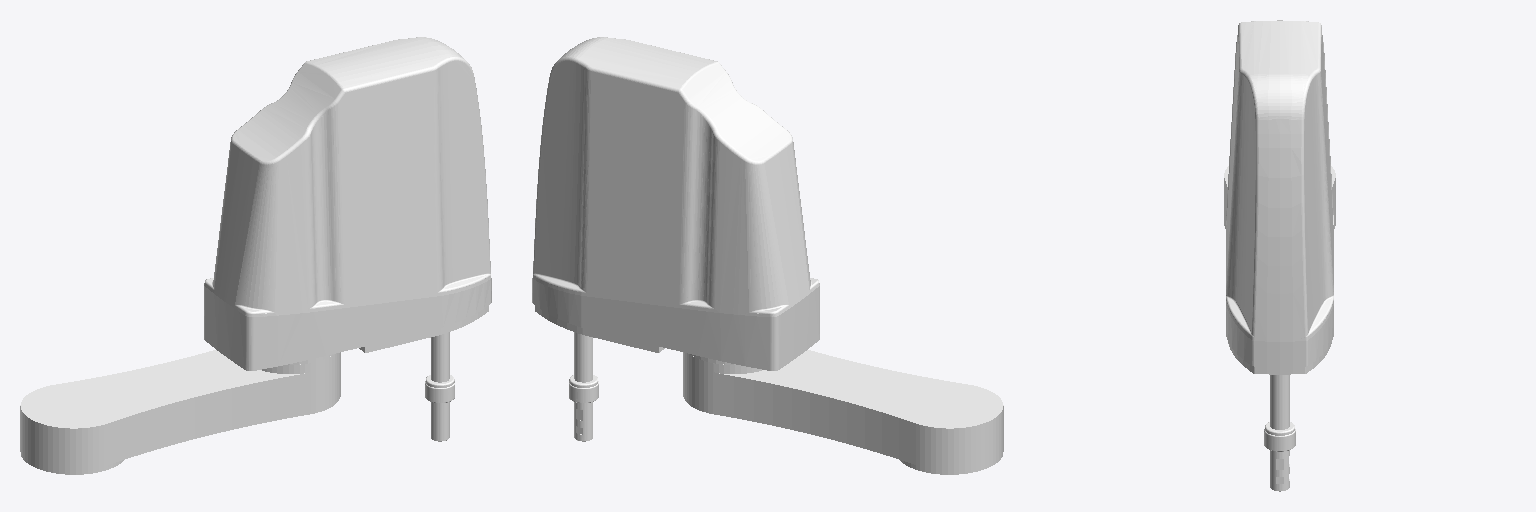
robot.urdf — rh6frh5520:
<?xml version="1.0" ?>
<robot name="rh6frh5520">
  <material name="white">
    <color rgba="1.0 1.0 1.0 1.0"/>
  </material>
  <link name="world"/>
  <link name="rh6frh5520_base">
    <visual>
      <material name="white"/>
      <origin rpy="0 0 0" xyz="0 0 0"/>
      <geometry>
        <mesh filename="package://melfa_description/meshes/rh6frh5520/base.STL"/>
      </geometry>
    </visual>
    <collision>
      <origin rpy="0 0 0" xyz="0 0 0"/>
      <geometry>
        <mesh filename="package://melfa_description/meshes/rh6frh5520/base.STL"/>
      </geometry>
    </collision>
  </link>
  <link name="rh6frh5520_no1arm">
    <visual>
      <material name="white"/>
      <origin rpy="0 0 0" xyz="0 0 0"/>
      <geometry>
        <mesh filename="package://melfa_description/meshes/rh6frh5520/no1arm.STL"/>
      </geometry>
    </visual>
    <collision>
      <origin rpy="0 0 0" xyz="0 0 0"/>
      <geometry>
        <mesh filename="package://melfa_description/meshes/rh6frh5520/no1arm.STL"/>
      </geometry>
    </collision>
  </link>
  <link name="rh6frh5520_no2arm">
    <visual>
      <material name="white"/>
      <origin rpy="0 0 0" xyz="0 0 0"/>
      <geometry>
        <mesh filename="package://melfa_description/meshes/rh6frh5520/no2arm.STL"/>
      </geometry>
    </visual>
    <collision>
      <origin rpy="0 0 0" xyz="0 0 0"/>
      <geometry>
        <mesh filename="package://melfa_description/meshes/rh6frh5520/no2arm.STL"/>
      </geometry>
    </collision>
  </link>
  <link name="rh6frh5520_shaft_z"/>
  <link name="rh6frh5520_shaft">
    <visual>
      <material name="white"/>
      <origin rpy="0 0 0" xyz="0 0 0"/>
      <geometry>
        <mesh filename="package://melfa_description/meshes/rh6frh5520/shaft.STL"/>
      </geometry>
    </visual>
    <collision>
      <origin rpy="0 0 0" xyz="0 0 0"/>
      <geometry>
        <mesh filename="package://melfa_description/meshes/rh6frh5520/shaft.STL"/>
      </geometry>
    </collision>
  </link>
  <link name="rh6frh5520_default_tcp"/>
  <joint name="rh6frh5520_world_to_base" type="fixed">
    <origin rpy="0 0 0" xyz="0.0 0.0 0.0"/>
    <parent link="world"/>
    <child link="rh6frh5520_base"/>
  </joint>
  <joint name="rh6frh5520_joint_1" type="revolute">
    <origin rpy="0 0 0" xyz="0.0 0.0 0.0"/>
    <parent link="rh6frh5520_base"/>
    <child link="rh6frh5520_no1arm"/>
    <axis xyz="0 0 1"/>
    <limit effort="1" lower="-2.9670597283903604" upper="2.9670597283903604" velocity="6.981317007977318"/>
  </joint>
  <joint name="rh6frh5520_joint_2" type="revolute">
    <origin rpy="0 0 0" xyz="0.325 0.0 0.0"/>
    <parent link="rh6frh5520_no1arm"/>
    <child link="rh6frh5520_no2arm"/>
    <axis xyz="0 0 1"/>
    <limit effort="1" lower="-2.5307274153917776" upper="2.5307274153917776" velocity="11.693705988362007"/>
  </joint>
  <joint name="rh6frh5520_joint_3" type="prismatic">
    <origin rpy="0 0 0" xyz="0.225 0.0 0.0"/>
    <parent link="rh6frh5520_no2arm"/>
    <child link="rh6frh5520_shaft_z"/>
    <axis xyz="0 0 1"/>
    <limit effort="1" lower="0.133" upper="0.333" velocity="2.4"/>
  </joint>
  <joint name="rh6frh5520_joint_4" type="revolute">
    <origin rpy="0 0 0" xyz="0.0 0.0 0.0"/>
    <parent link="rh6frh5520_shaft_z"/>
    <child link="rh6frh5520_shaft"/>
    <axis xyz="0 0 1"/>
    <limit effort="1" lower="-6.283185307179586" upper="6.283185307179586" velocity="43.63323129985824"/>
  </joint>
  <joint name="rh6frh5520_shift_to_default_tcp" type="fixed">
    <origin rpy="0 0 0" xyz="0.0 0.0 0.0"/>
    <parent link="rh6frh5520_shaft"/>
    <child link="rh6frh5520_default_tcp"/>
  </joint>
</robot>

--- Render facts (derived) ---
Views: 3 orthographic renders of the robot side by side, from view 1: azimuth 30°, elevation 25°; view 2: azimuth 150°, elevation 25°; view 3: azimuth 270°, elevation 25°.
Robot: rh6frh5520 — 7 links, 6 joints (3 revolute, 1 prismatic, 2 fixed); root link world; default pose: joints at zero except 1 at the middle of their limits (rh6frh5520_joint_3 = 0.233).
Visible links, largest first — view 1: rh6frh5520_no2arm, rh6frh5520_no1arm, rh6frh5520_shaft; view 2: rh6frh5520_no2arm, rh6frh5520_no1arm, rh6frh5520_shaft; view 3: rh6frh5520_no2arm, rh6frh5520_shaft.
Boxes of the visible links, <box> form: rh6frh5520_no2arm: <box>204,37,491,370</box>; rh6frh5520_no1arm: <box>20,350,340,474</box>; rh6frh5520_shaft: <box>425,332,454,441</box>; rh6frh5520_no2arm: <box>532,37,819,370</box>; rh6frh5520_no1arm: <box>683,350,1003,474</box>; rh6frh5520_shaft: <box>569,332,598,441</box>; rh6frh5520_no2arm: <box>1226,20,1333,374</box>; rh6frh5520_shaft: <box>1264,375,1295,491</box>.
Size in the robot's own frame: 0.68 by 0.1398 by 0.565 metres.
3 mesh visuals loaded from 4 distinct referenced files (3 binary STL); not drawn: 1 (reference not matched to a file when rendering).
